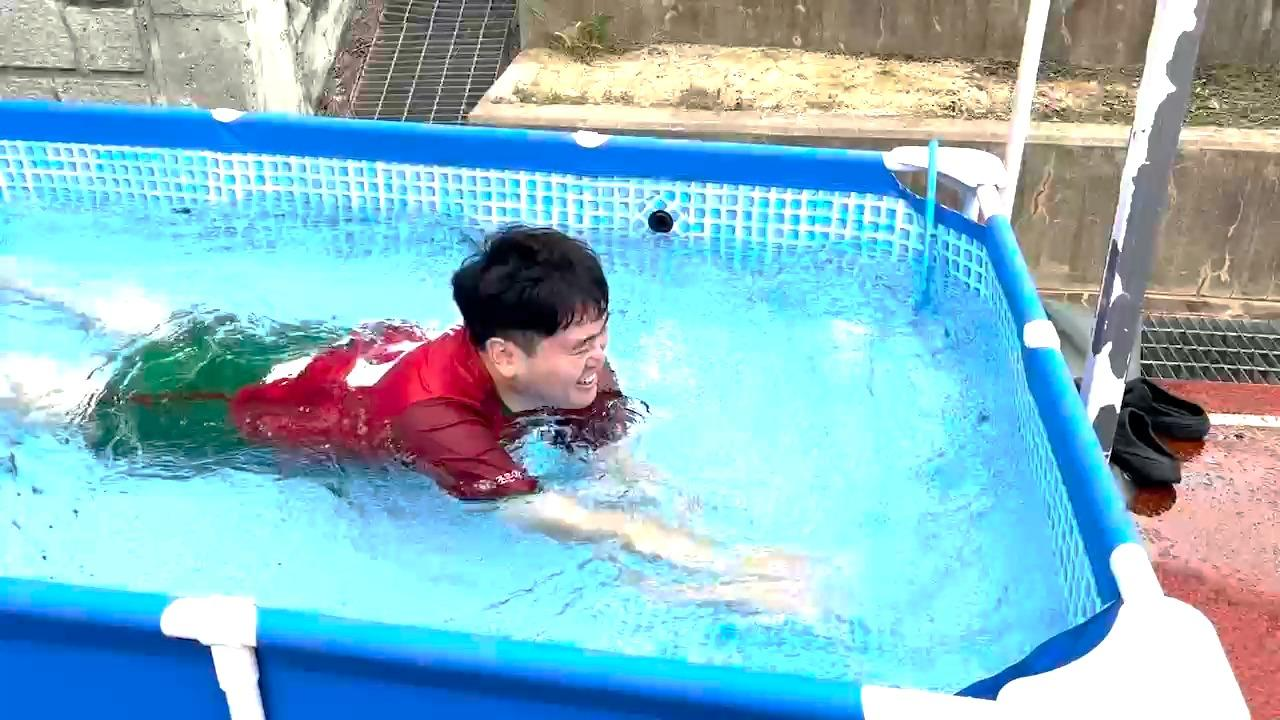Swimming: (0, 186, 817, 568)
